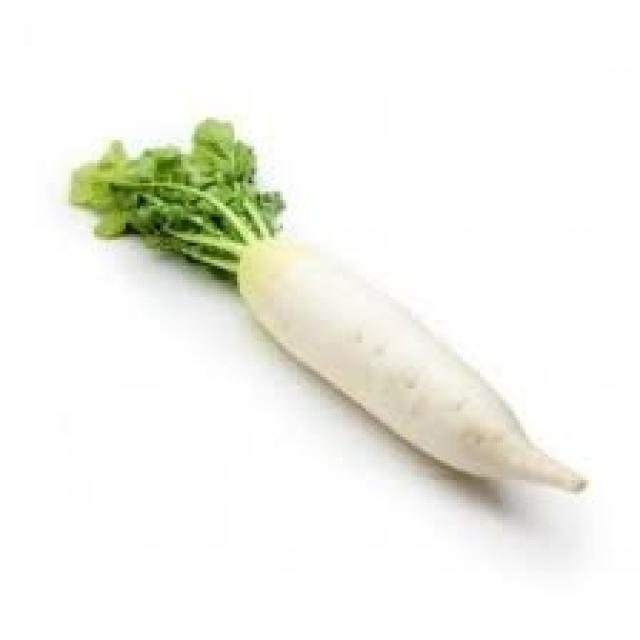organic waste: (68, 114, 583, 492)
